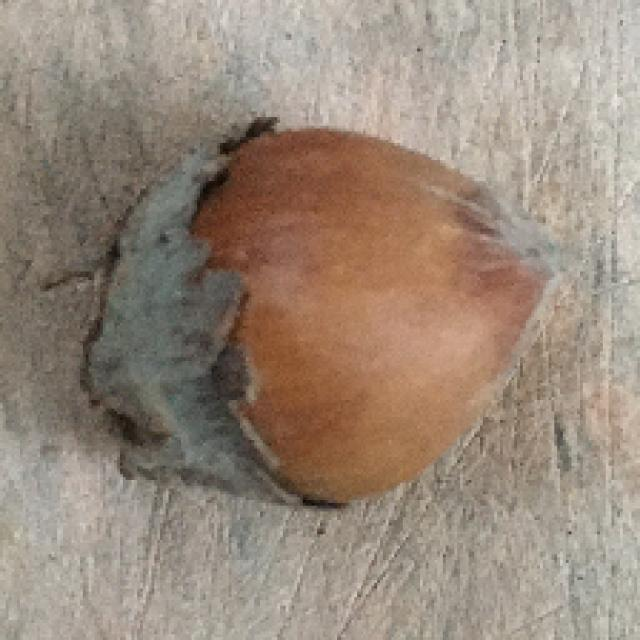damagedHazelnut: (64, 106, 552, 524)
